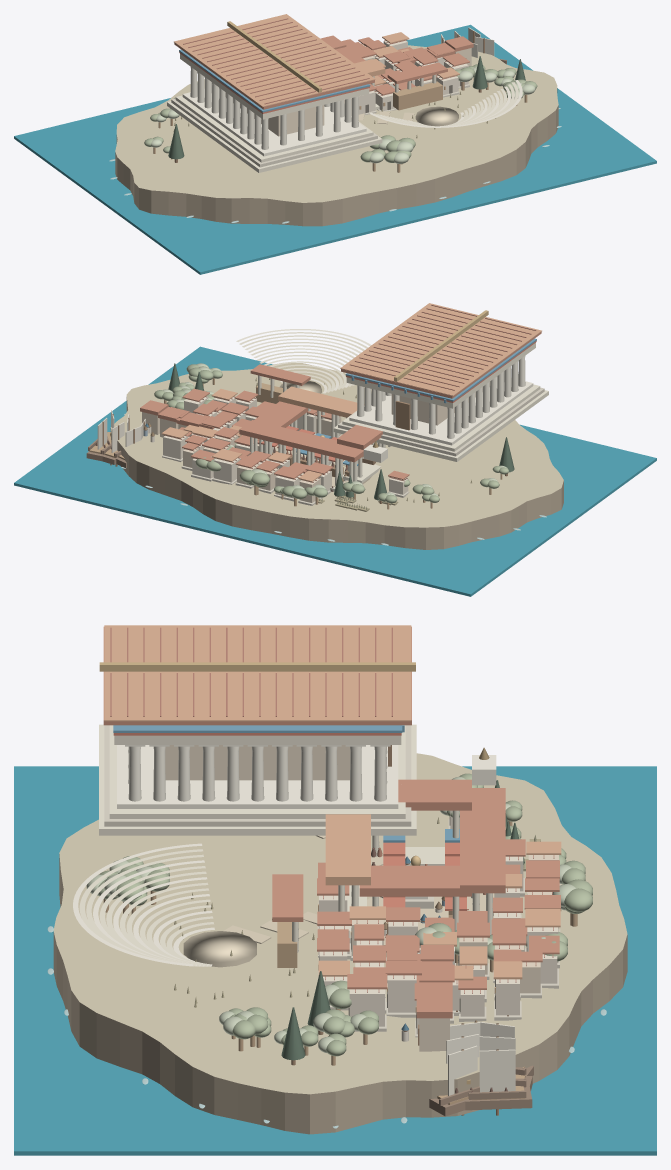
The model's file is hellas-island-overview-v1.glb.
3 renders of one model, top to bottom at view 1: azimuth 30°, elevation 25°; view 2: azimuth 150°, elevation 25°; view 3: azimuth 270°, elevation 25°, orthographic. The views are drawn at different scales.
Visible parts, largest first — view 1: Aegean Sea, Aegean island terrain, object 2, object 113, object 115, Temple foundation (×3), object 48, Doric architrave, Theatre skene, object 153, Orchestra, object 111 (+5 smaller); view 2: Aegean Sea, Aegean island terrain, object 2, object 113, object 115, Temple foundation (×3), object 48, object 203, object 237, Doric architrave, object 273, object 255 (+8 smaller); view 3: Aegean Sea, Aegean island terrain, object 2, object 115, object 113, Temple foundation (×3), object 48, object 203, object 153, object 237, object 116, object 273 (+19 smaller).
Boxes of the visible parts, x1,y1,x2,y2 form: Aegean Sea: [14, 24, 656, 274]; Aegean island terrain: [115, 45, 558, 202]; object 2: [115, 88, 558, 226]; object 113: [174, 28, 321, 106]; object 115: [229, 14, 375, 93]; Temple foundation (×3): [167, 95, 382, 172]; object 48: [182, 87, 366, 156]; Doric architrave: [180, 54, 369, 119]; Theatre skene: [393, 81, 442, 110]; object 153: [225, 92, 324, 136]; Orchestra: [415, 106, 458, 126]; object 111: [179, 49, 370, 112]; Aegean Sea: [14, 346, 656, 596]; Aegean island terrain: [110, 363, 563, 527]; object 2: [110, 397, 563, 549]; object 113: [394, 317, 541, 395]; object 115: [340, 303, 486, 381]; Temple foundation (×3): [333, 384, 548, 461]; object 48: [349, 376, 533, 445]; object 203: [239, 420, 363, 462]; object 237: [278, 386, 364, 417]; Doric architrave: [346, 343, 535, 408]; object 273: [254, 401, 307, 427]; object 255: [337, 425, 382, 449]; Aegean Sea: [14, 766, 656, 1155]; Aegean island terrain: [53, 753, 627, 1094]; object 2: [53, 854, 627, 1134]; object 115: [104, 672, 411, 721]; object 113: [104, 625, 411, 674]; Temple foundation (×3): [99, 724, 416, 835]; object 48: [117, 745, 398, 808]; object 203: [460, 788, 505, 893]; object 153: [165, 745, 350, 780]; object 237: [325, 814, 370, 885]; object 116: [99, 662, 415, 671]; object 273: [359, 865, 471, 896].
Size of the model in its own units: 34 by 9.82 by 24.
